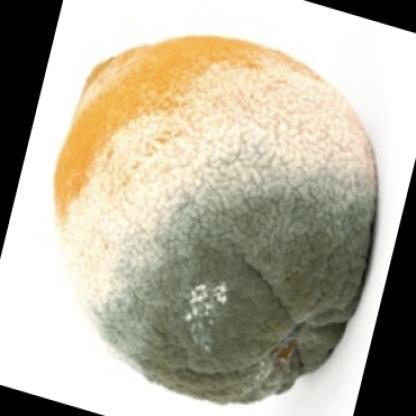rotten: (56, 38, 376, 405)
